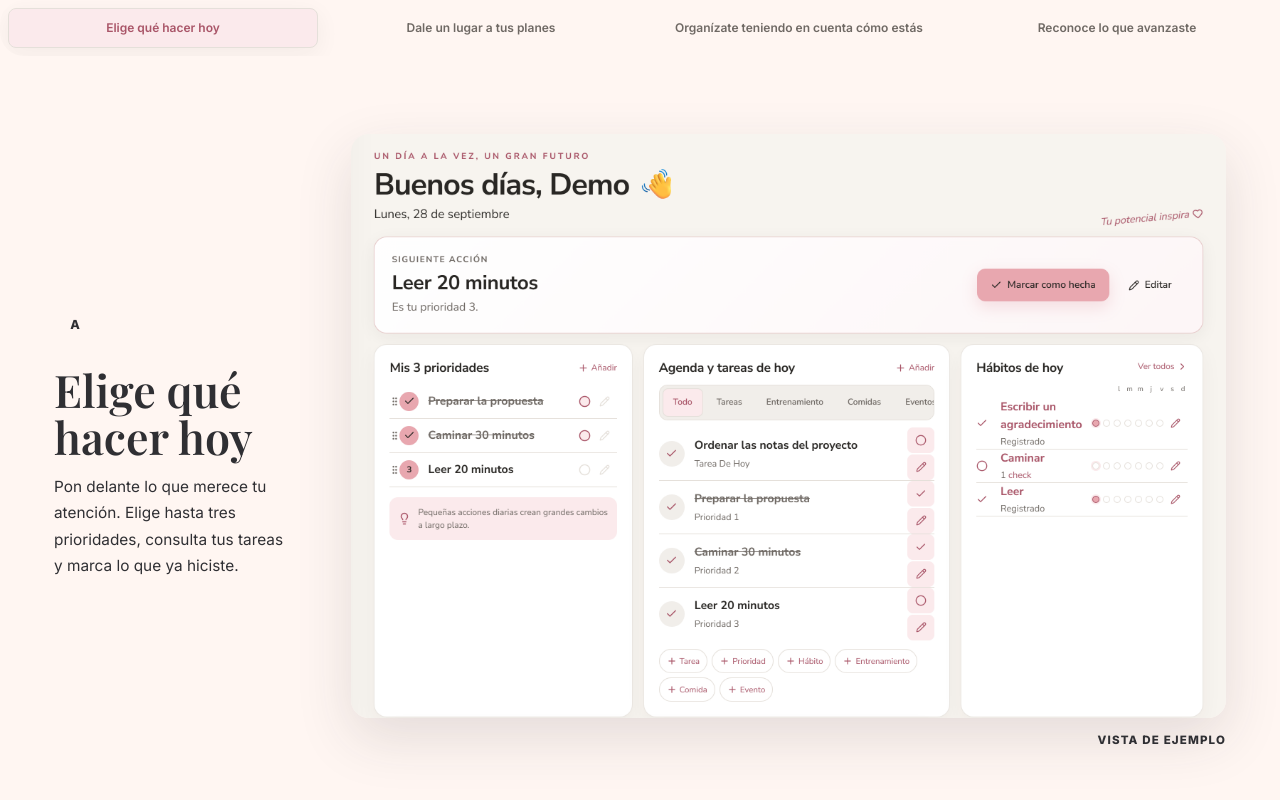
Test case: selector accesible de momentos del producto › muestra Mi día primero y cambia un único panel por clic y teclado
Check: the number of pictures is 1, box [351, 134, 1226, 718]
Click the tab "Dale un lugar a tus planes". click: (481, 28)
box: [326, 8, 636, 48]
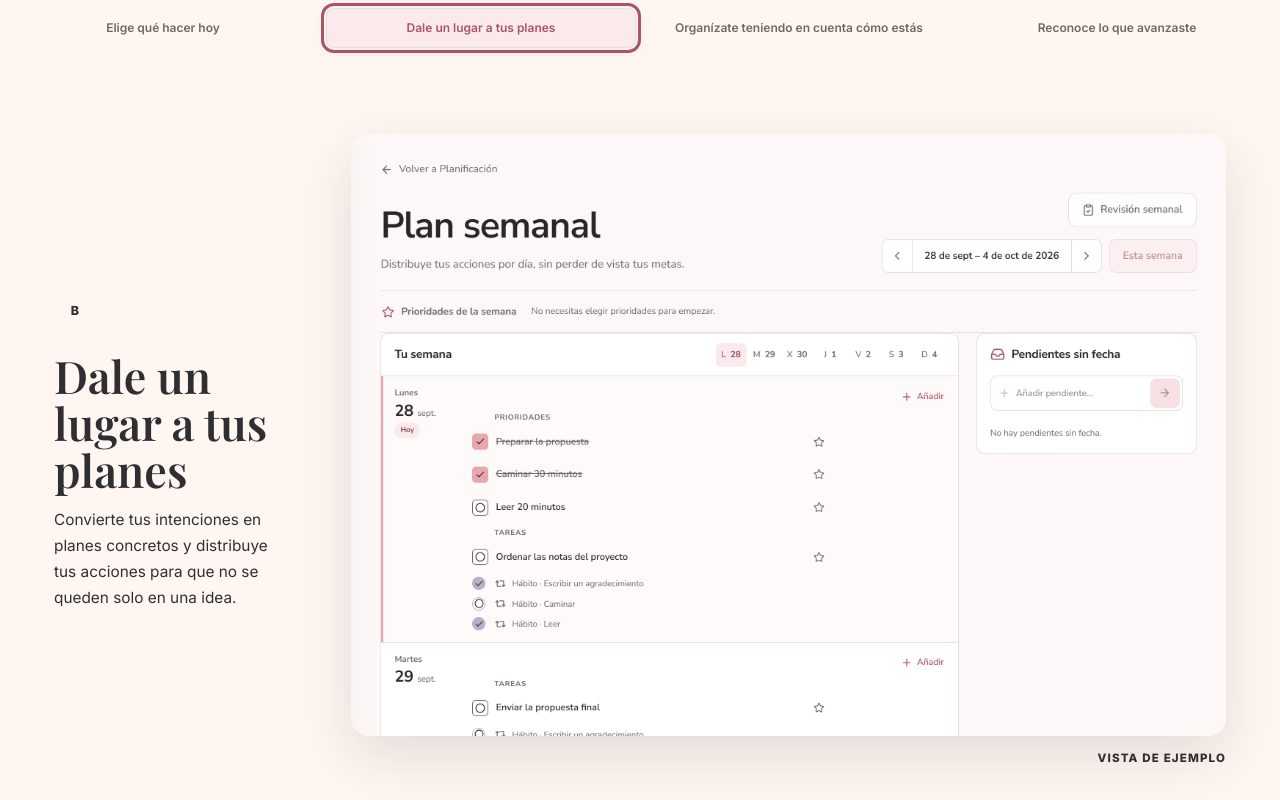
Check: the picture named "planificación semanal" is shown, box [351, 134, 1226, 736]
Press End in the tab "Dale un lugar a tus planes", box [326, 8, 636, 48]
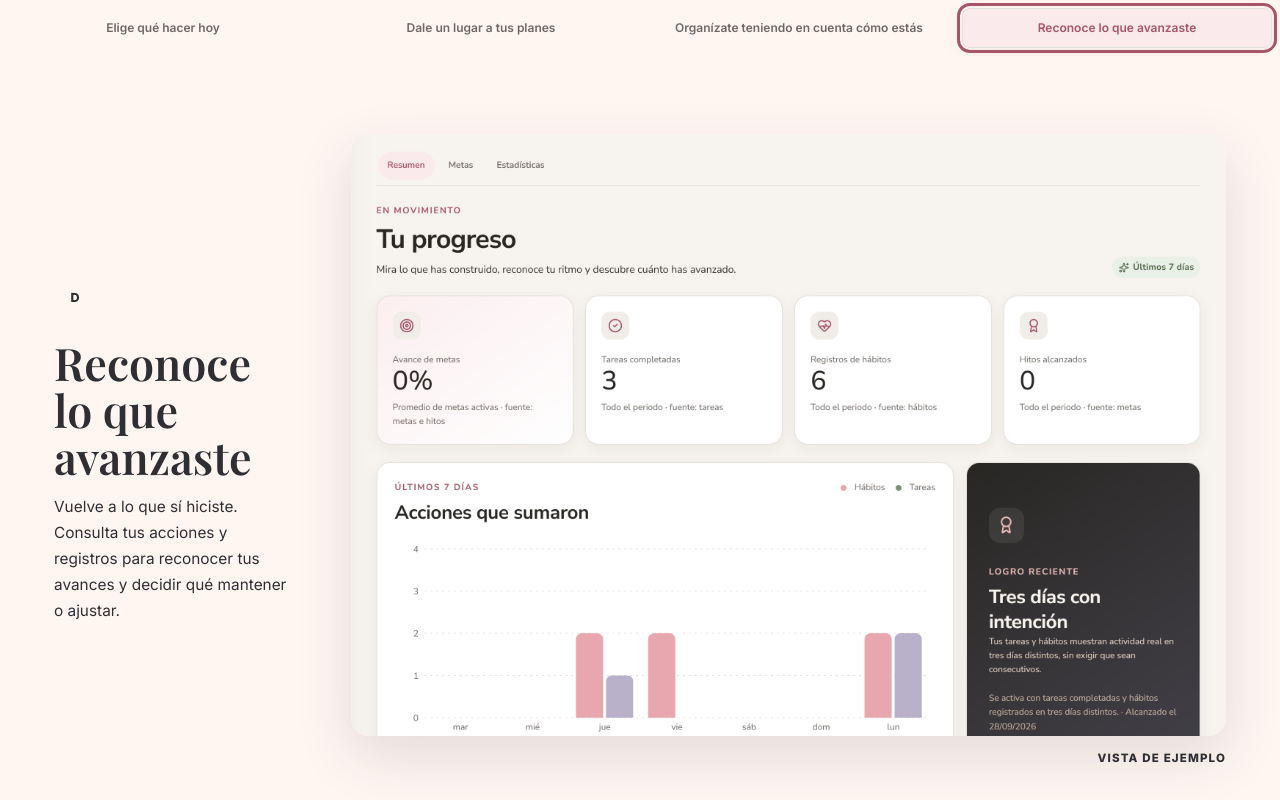
Check: the picture named "Progreso con tareas completadas" is shown, box [351, 134, 1226, 736]
